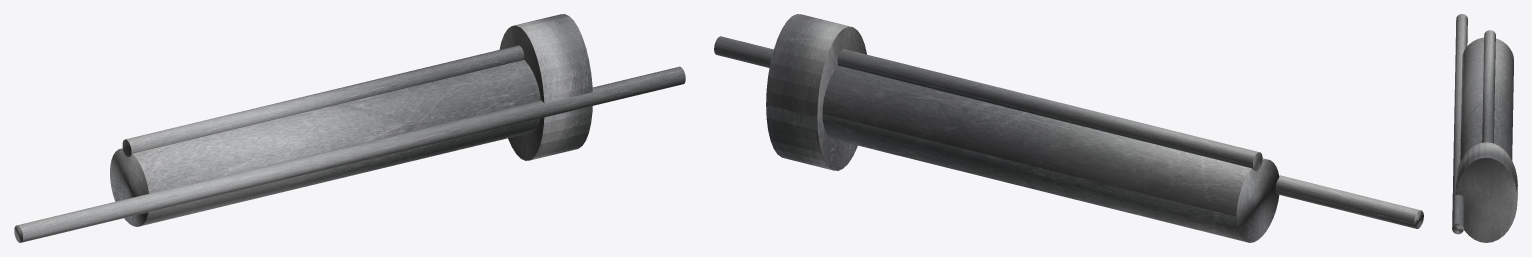
Rendered from pieza21.fbx.
3 views of the same model, side by side, from view 1: azimuth 30°, elevation 25°; view 2: azimuth 150°, elevation 25°; view 3: azimuth 270°, elevation 25° (orthographic). The views are drawn at different scales.
Parts seen in each view (by area): view 1: Cylinder.001; view 2: Cylinder.001; view 3: Cylinder.001.
Part boxes in pixels (x1=…): Cylinder.001: x1=14, y1=14, x2=685, y2=242; Cylinder.001: x1=714, y1=14, x2=1423, y2=242; Cylinder.001: x1=1452, y1=14, x2=1517, y2=242.
Bounding box in the file's own units: 1046 × 198 × 139.
3 materials, 3 textured.
